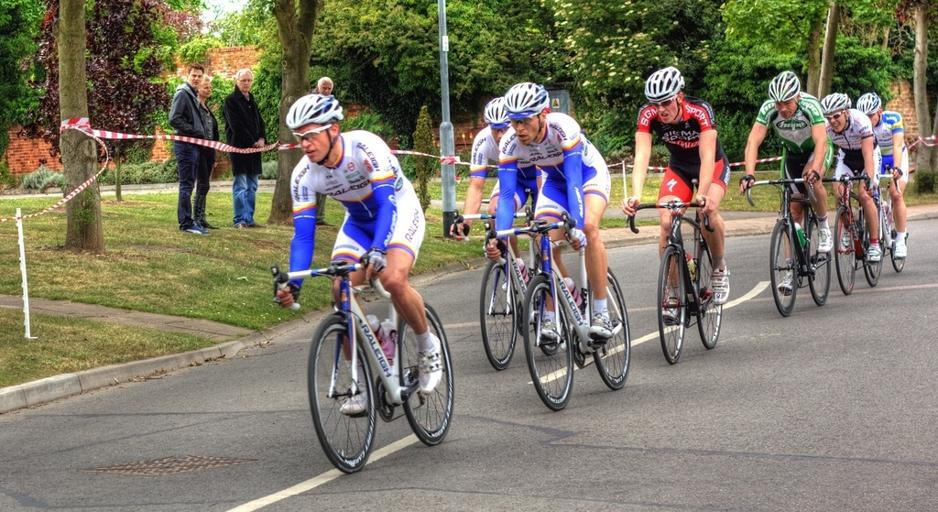non-vehicle: (269, 254, 453, 473), (483, 211, 632, 409), (448, 205, 566, 371), (628, 197, 723, 362), (742, 174, 832, 317)
